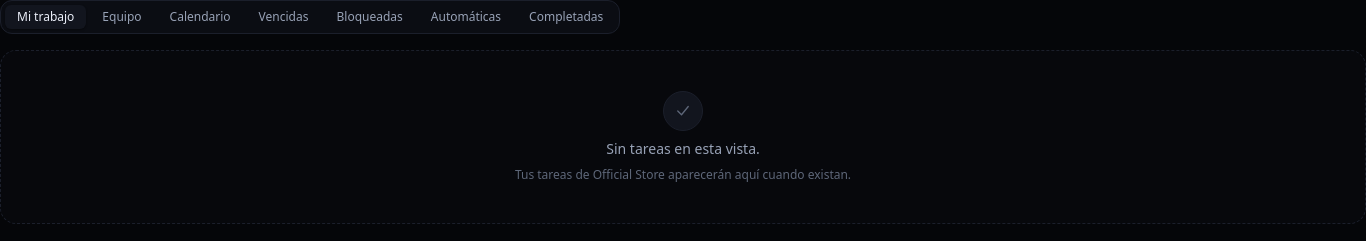
Scenario: TasksBoard › opens empty and shows an honest per-view note
This screenshot has width=1366, height=241.
Expected: the text "Sin tareas en esta vista." is shown, [606, 139, 760, 159]
Expected: the text "Tus tareas de Official Store aparecerán aquí cuando existan." is shown, [515, 167, 851, 183]
Click the tab "Bloqueadas".
click(370, 17)  # box [324, 5, 415, 29]
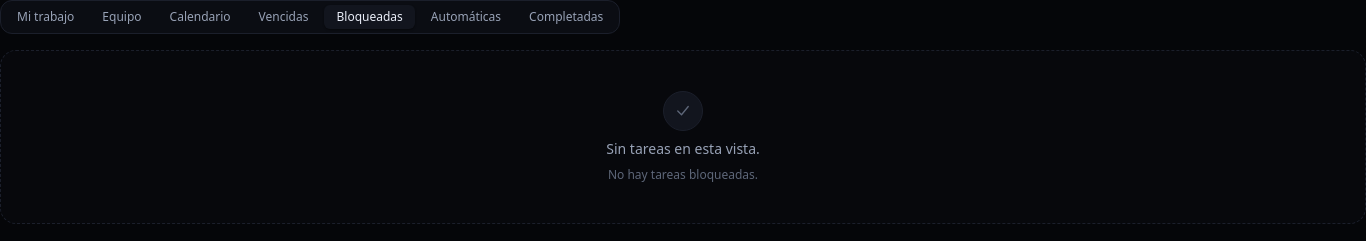
Result: the text "No hay tareas bloqueadas." is shown at [608, 167, 758, 183]
